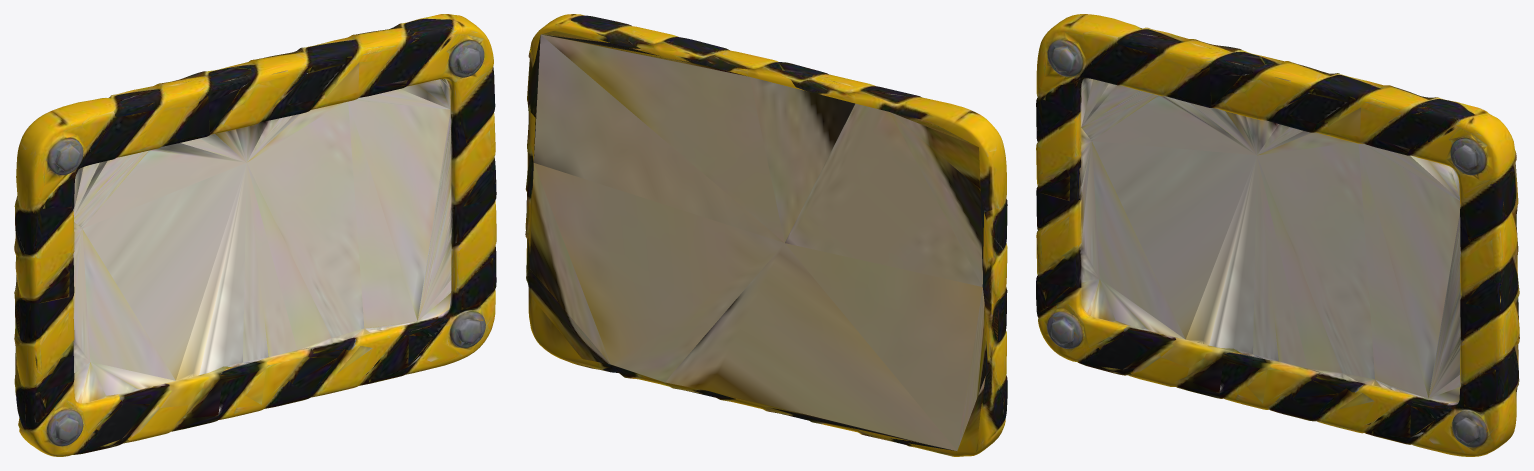
3 views of the same model, side by side, from view 1: azimuth 30°, elevation 25°; view 2: azimuth 150°, elevation 25°; view 3: azimuth 330°, elevation 25° (orthographic).
Bounding box in the file's own units: 1.9 × 1.33 × 0.1684.
Materials: 1 (1 with a texture image).
